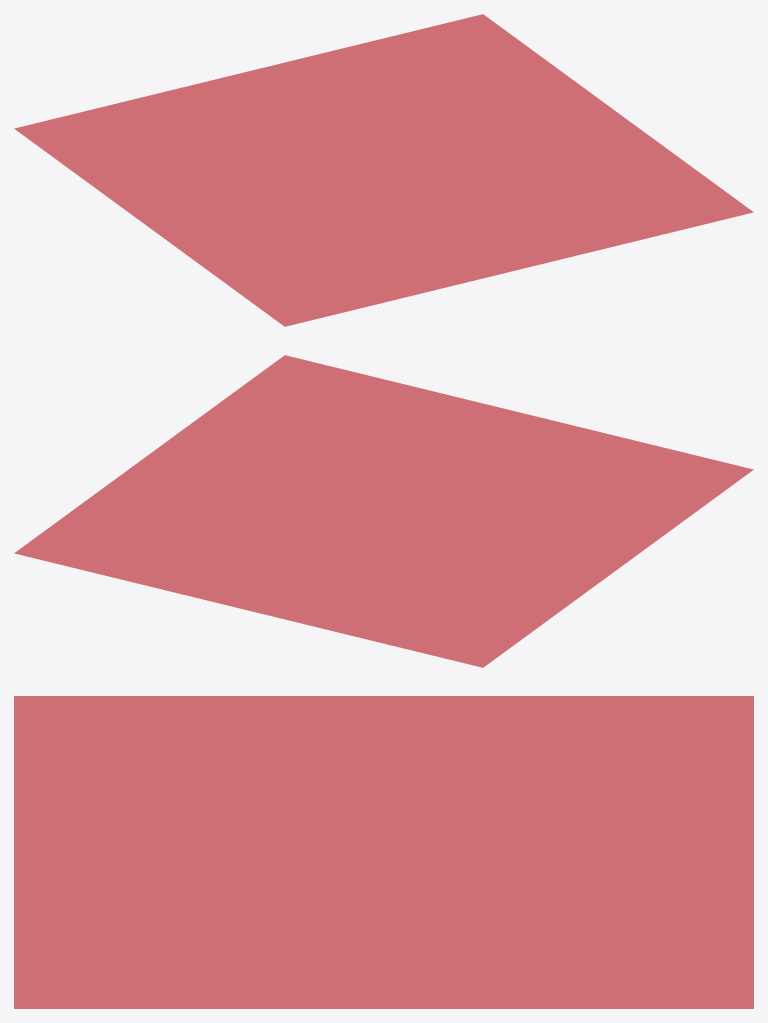
The model's file is ClothBanner.gltf.
3 views of the same model, one above another, from view 1: azimuth 30°, elevation 25°; view 2: azimuth 150°, elevation 25°; view 3: azimuth 270°, elevation 25° (orthographic). The views are drawn at different scales.
Parts seen in each view (by area): view 1: ClothBanner; view 2: ClothBanner; view 3: ClothBanner.
Part boxes in pixels (x1,y1,x2,y2): ClothBanner: [14, 14, 753, 326]; ClothBanner: [14, 355, 753, 667]; ClothBanner: [14, 696, 753, 1008].
Size of the model in its own units: 1.38 by 0 by 1.38.
